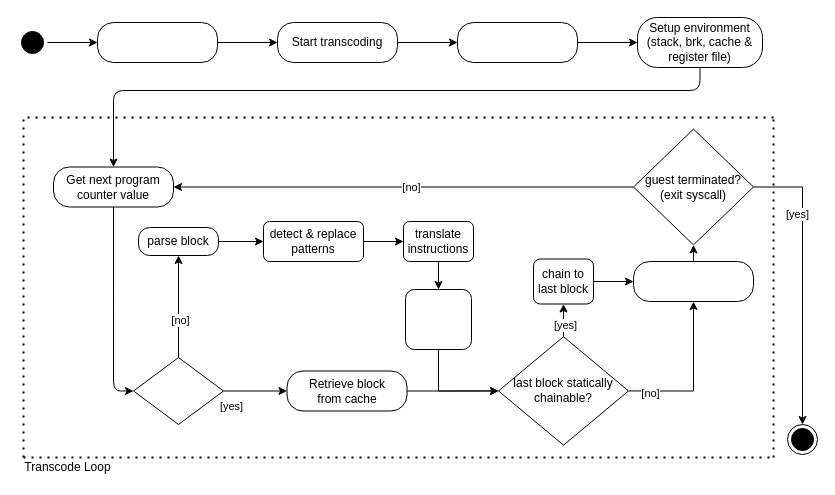
This 835x495 diagram has some shape labels left out. The centre of each missing label's shape, as x and y in pixels:
Block cached?: (x=178, y=390)
Execute cached block: (x=693, y=281)
Map executable file into memory: (x=517, y=42)
Parse command line options: (x=157, y=42)
store block in cache: (x=438, y=319)
